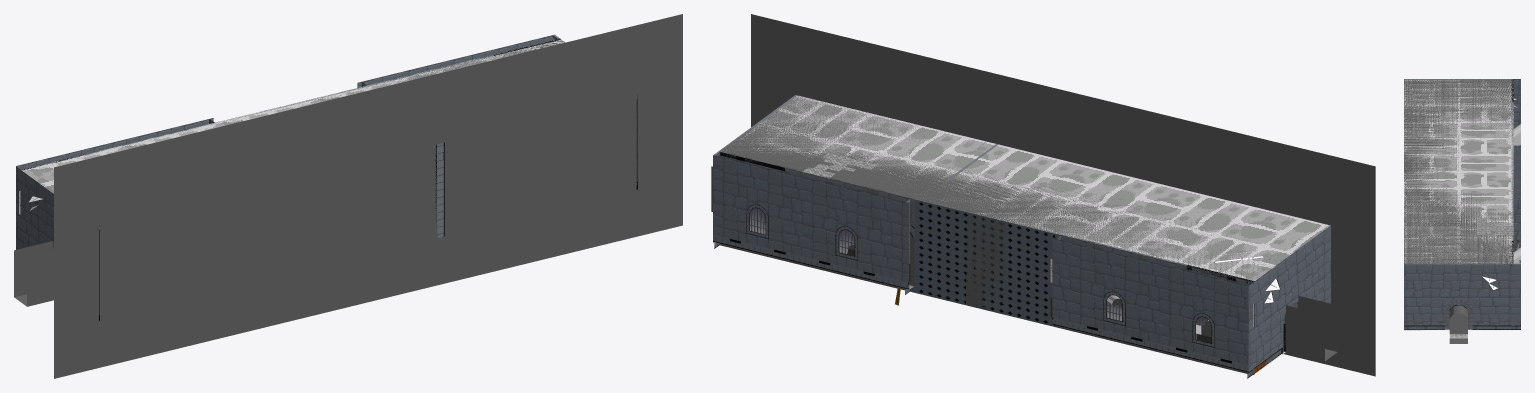
Rendered from gon_06_bake_split.dae.
3 views of the same model, side by side, from view 1: azimuth 30°, elevation 25°; view 2: azimuth 150°, elevation 25°; view 3: azimuth 270°, elevation 25° (orthographic). The views are drawn at different scales.
Parts seen in each view (by area): view 1: kuro6, a_kabemae, polySurface553_q00021, polySurface473_q00079_part0, polySurface917_q00062_part0, polySurface409_q00009, polySurface461_q00072_part1, pCube151_q00074, a_ten; view 2: kuro6, polySurface553_q00021, polySurface917_q00062_part0, a_ten, polySurface79_q00088, polySurface473_q00079_part0, a_kabeushi, polySurface917_q00062_part3, polySurface409_q00009, polySurface917_q00062_part1, polySurface840_q00060_part0, pCube151_q00074 (+4 smaller); view 3: polySurface553_q00021, a_ten, polySurface474_q00080_part0, polySurface474_q00080_part1, pCube151_q00074, a_kabeyoko, polySurface485_q00078_part0, polySurface906, polySurface461_q00073, polySurface787_q00022, polySurface473_q00079_part0, polySurface408_q00081_part0 (+3 smaller).
Part boxes in pixels (x1,y1,x2,y2): kuro6: (54,14,682,378); a_kabemae: (100,96,636,320); polySurface553_q00021: (21,39,563,193); polySurface473_q00079_part0: (16,166,53,249); polySurface917_q00062_part0: (16,35,554,169); polySurface409_q00009: (14,241,53,306); polySurface461_q00072_part1: (435,142,444,238); pCube151_q00074: (21,38,560,171); a_ten: (41,39,562,184); kuro6: (751,14,1375,376); polySurface553_q00021: (721,96,1329,281); polySurface917_q00062_part0: (713,155,1248,365); a_ten: (720,95,1281,280); polySurface79_q00088: (914,199,1054,326); polySurface473_q00079_part0: (1248,226,1330,371); a_kabeushi: (719,159,1252,374); polySurface917_q00062_part3: (740,204,1221,365); polySurface409_q00009: (1284,296,1337,361); polySurface917_q00062_part1: (713,234,1248,372); polySurface840_q00060_part0: (718,152,1252,285); pCube151_q00074: (719,152,1254,284); polySurface553_q00021: (1404,79,1513,264); a_ten: (1404,79,1513,263); polySurface474_q00080_part0: (1404,264,1520,325); polySurface474_q00080_part1: (1404,300,1520,329); pCube151_q00074: (1511,79,1513,266); a_kabeyoko: (1404,300,1513,329); polySurface485_q00078_part0: (1513,145,1520,197); polySurface906: (1477,218,1513,234); polySurface461_q00073: (1513,198,1520,251); polySurface787_q00022: (1449,308,1467,334); polySurface473_q00079_part0: (1513,79,1520,128); polySurface408_q00081_part0: (1449,305,1467,317).
Bounding box in the file's own units: 140 × 45 × 32.
